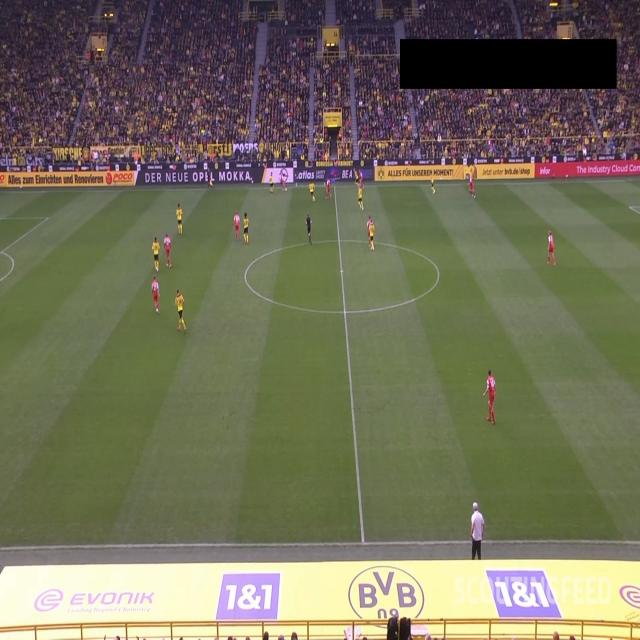ball: (286, 187, 288, 192)
f_player: (484, 370, 496, 426), (174, 289, 187, 333), (546, 232, 557, 266), (162, 233, 173, 266), (367, 216, 377, 252), (152, 277, 162, 311), (152, 237, 162, 270), (240, 214, 250, 246), (175, 206, 184, 237), (467, 174, 478, 199), (233, 213, 242, 243), (324, 177, 332, 200), (358, 184, 364, 211), (430, 176, 437, 196), (308, 183, 315, 203), (280, 171, 286, 191), (269, 172, 274, 194), (358, 168, 363, 188), (354, 168, 359, 187)
umpire: (305, 215, 313, 245), (205, 166, 213, 190)
